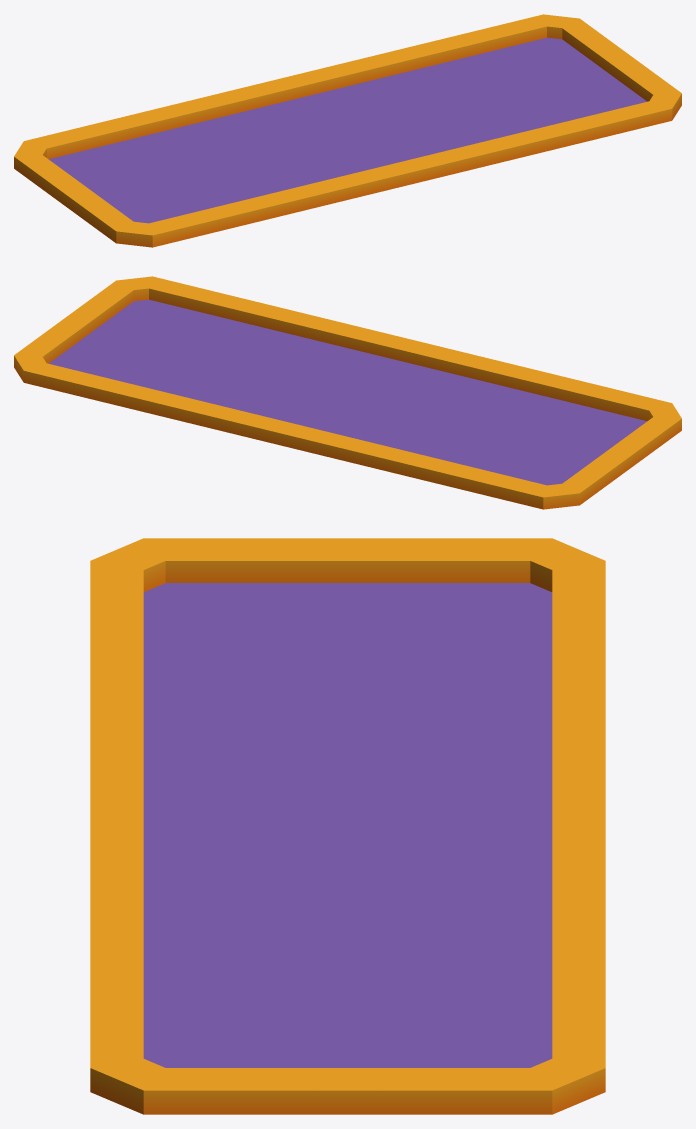
File: Spike_Pole_Socket_02.fbx
The picture shows the model from 3 angles, top to bottom: view 1: azimuth 30°, elevation 25°; view 2: azimuth 150°, elevation 25°; view 3: azimuth 270°, elevation 25°; orthographic projection. The views are drawn at different scales.
Visible parts, largest first — view 1: Obstacle_Spike_Pole_Socket_02; view 2: Obstacle_Spike_Pole_Socket_02; view 3: Obstacle_Spike_Pole_Socket_02.
Part boxes in pixels (x1,y1,x2,y2): Obstacle_Spike_Pole_Socket_02: [14, 14, 681, 247]; Obstacle_Spike_Pole_Socket_02: [14, 276, 681, 509]; Obstacle_Spike_Pole_Socket_02: [90, 538, 605, 1114].
Size of the model in its own units: 245 by 5 by 96.63.
Materials: 1 (1 with a texture image).
